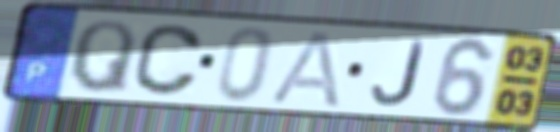0: (213, 24, 278, 105)
6: (429, 35, 496, 119)
A: (266, 28, 343, 110)
C: (129, 22, 206, 99)
J: (368, 38, 429, 108)
Q: (66, 17, 140, 97)
